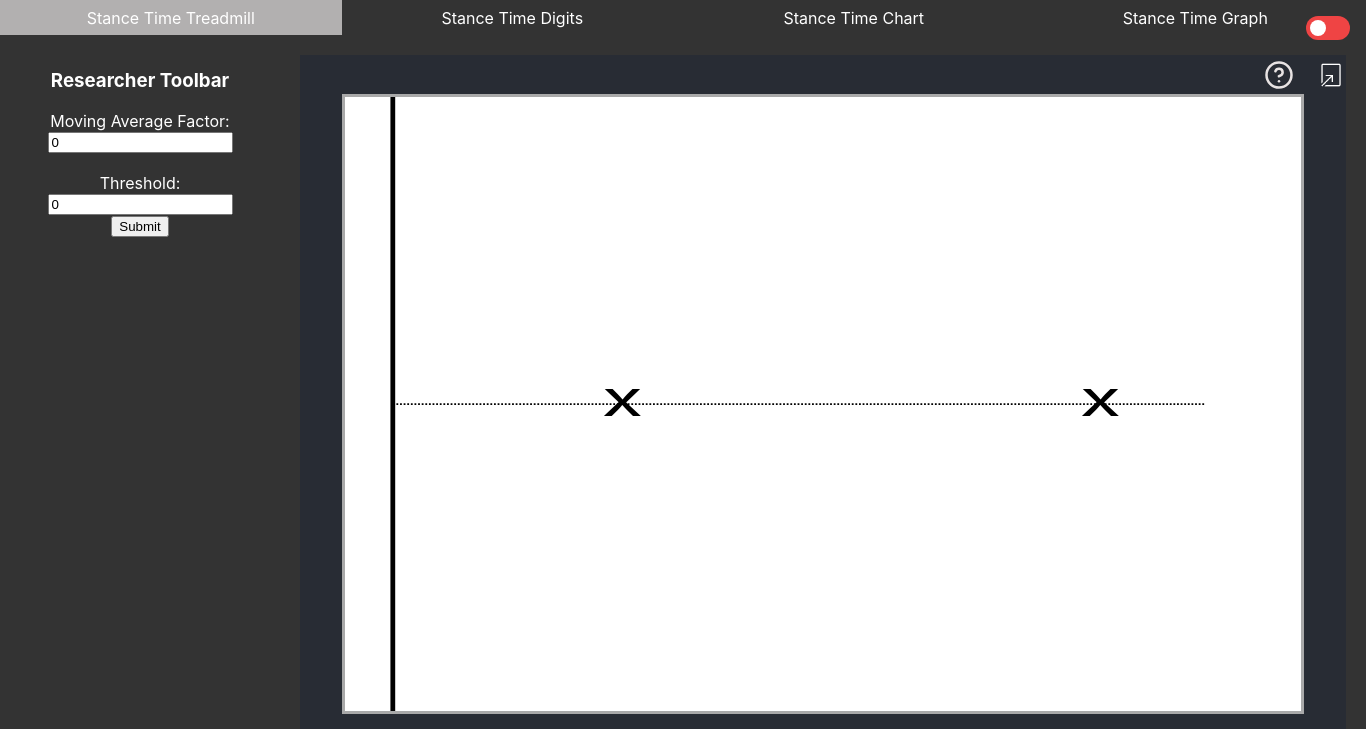
View Swapping › Navbar swap renders StanceTimeChart view
Click the list item with test id "stance-time-chart-nav": (854, 18) [783,8,924,28]
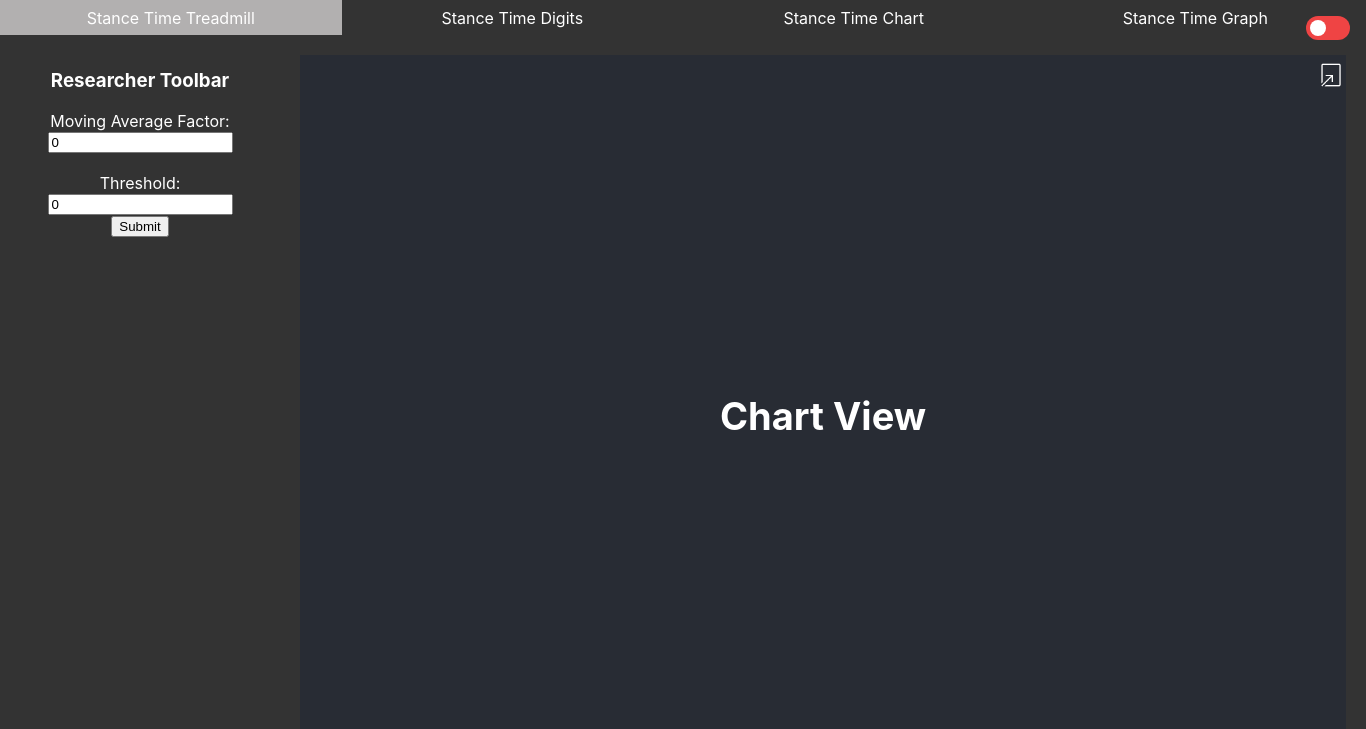
Check: the element with test id "stance-time-chart-view" is shown, box [720,393,926,439]
